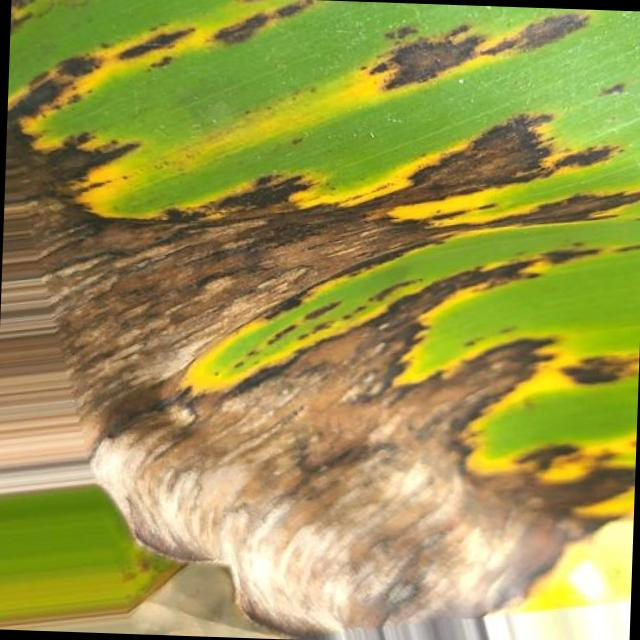Banana_Black_Sigatoka: (47, 258, 640, 560), (15, 0, 640, 223)
